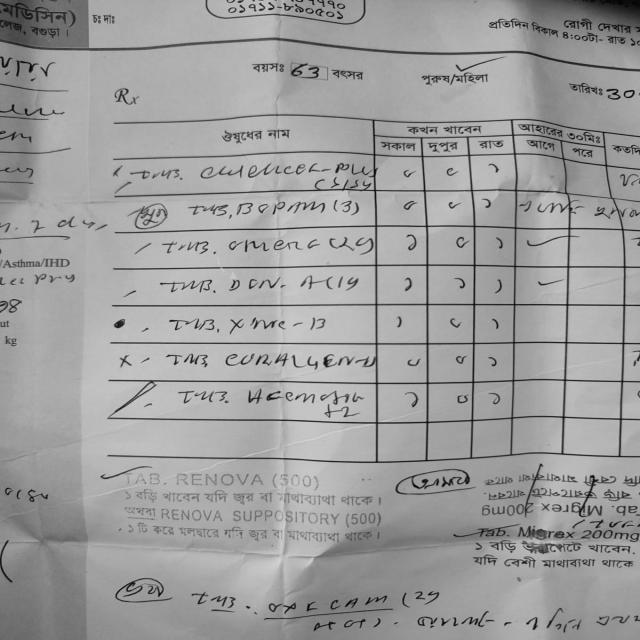Amira: (223, 235, 325, 259)
Bopam: (232, 195, 331, 219)
Calchek Plus: (196, 159, 380, 182)
Coralgen-D: (215, 345, 381, 384)
Don A: (223, 271, 325, 303)
Haemozin TR: (243, 386, 367, 421)
Xinc B: (221, 311, 333, 342)
